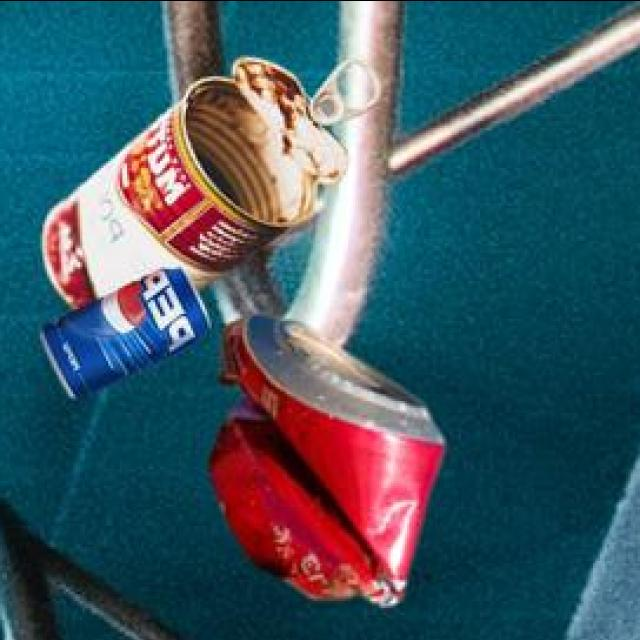logam: (39, 53, 378, 305), (206, 312, 441, 601), (39, 265, 206, 394)
